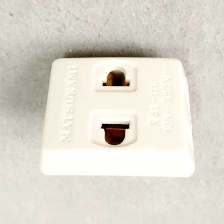three_eye_plug: (34, 49, 200, 183)
